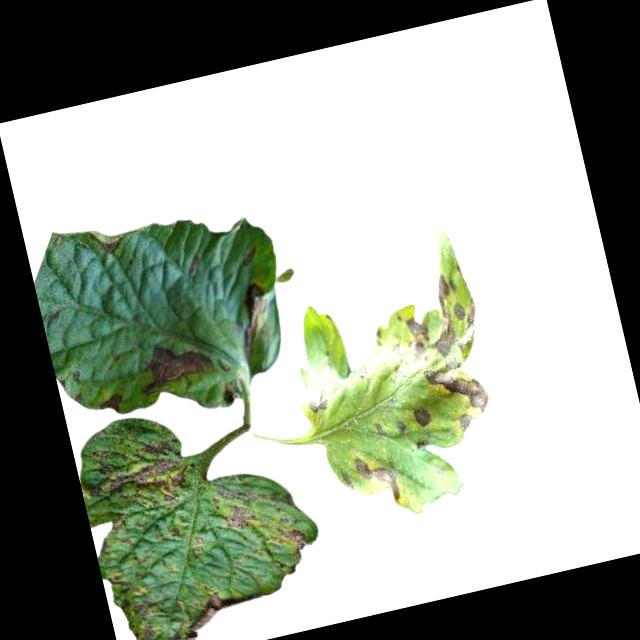Early_blight: (389, 266, 498, 426), (82, 431, 195, 519), (129, 333, 216, 396), (149, 586, 231, 640), (222, 278, 277, 358), (208, 473, 273, 534), (106, 567, 157, 640), (351, 450, 401, 510), (278, 524, 312, 561), (304, 383, 334, 414), (94, 387, 126, 415), (411, 403, 433, 429), (454, 410, 474, 434)
